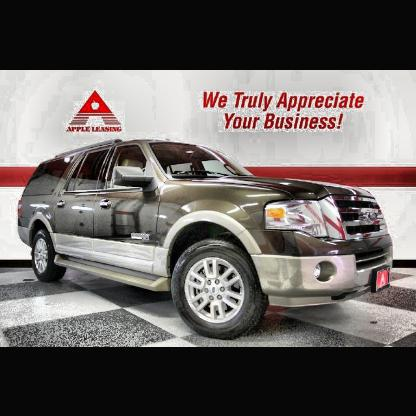Ford Expedition EL SUV 2009: (20, 140, 395, 340)
